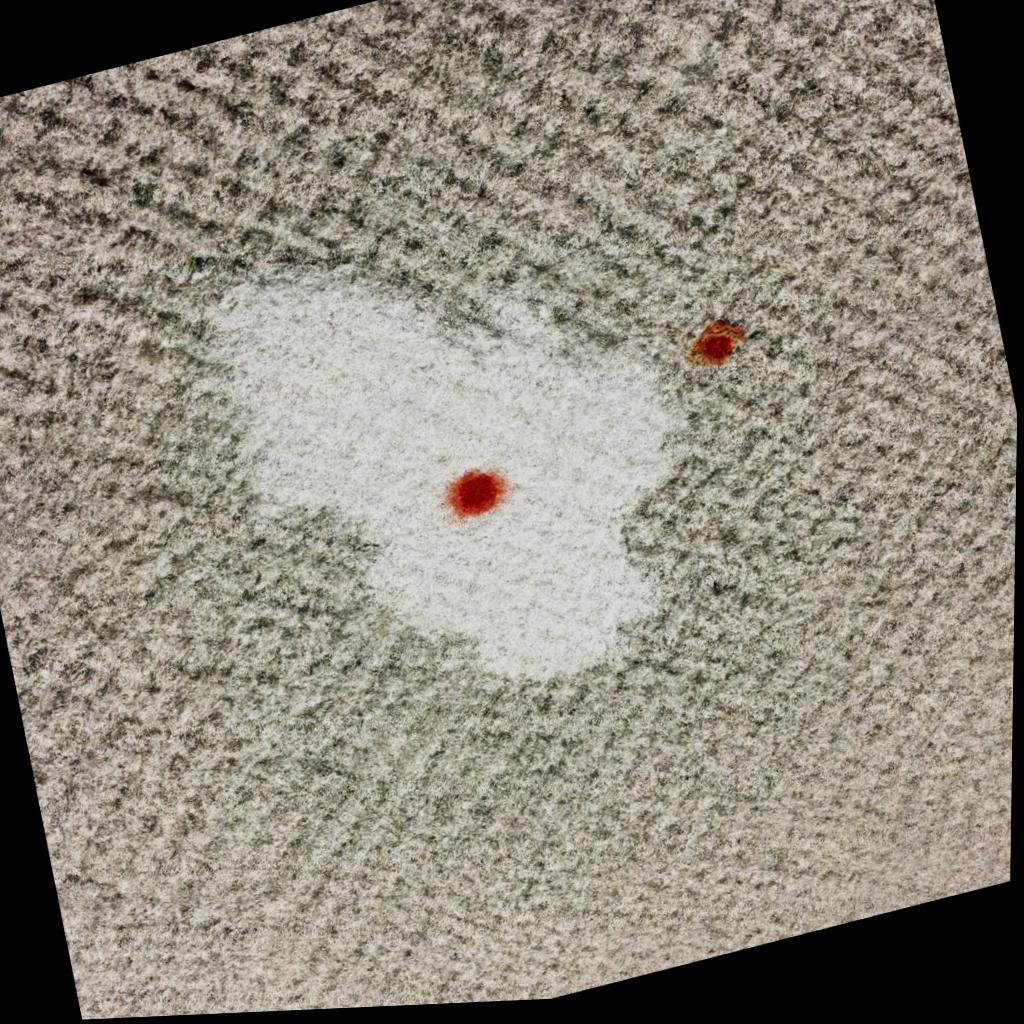Fire: (448, 476, 510, 525), (689, 328, 747, 375)
